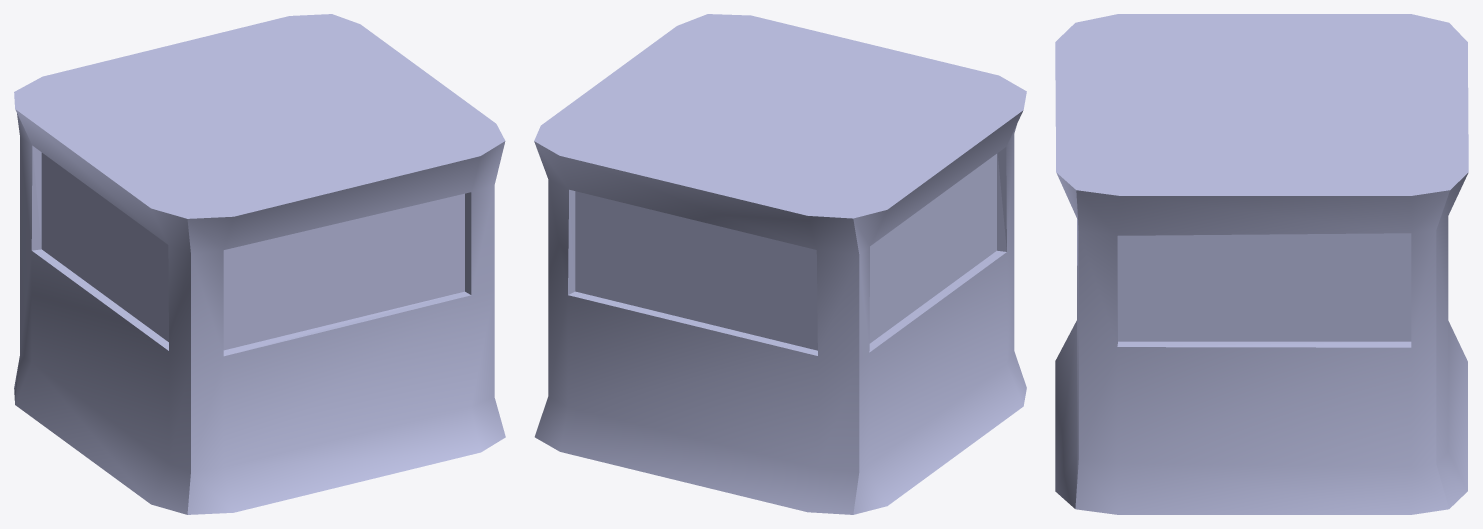
3 renders of one model, left to right at view 1: azimuth 30°, elevation 25°; view 2: azimuth 150°, elevation 25°; view 3: azimuth 270°, elevation 25°, orthographic. The views are drawn at different scales.
Visible parts, largest first — view 1: Box001; view 2: Box001; view 3: Box001.
Boxes of the visible parts, x1,y1,x2,y2 form: Box001: [14, 14, 505, 514]; Box001: [534, 14, 1026, 514]; Box001: [1055, 14, 1468, 514].
Size of the model in its own units: 79.2 by 64.8 by 76.11.
